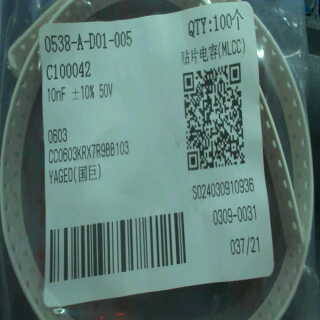10nF: (43, 84, 68, 105)
